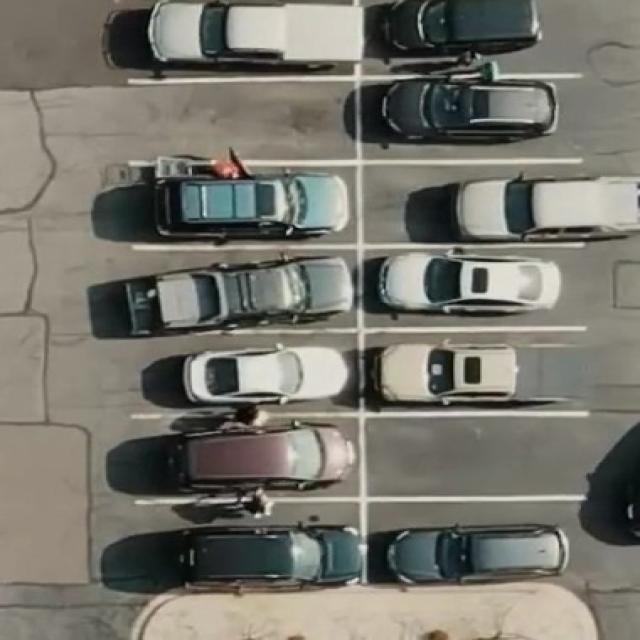space-empty: (119, 75, 356, 165), (357, 411, 595, 499)
space-occupied: (95, 498, 361, 594), (355, 158, 631, 245), (106, 243, 358, 337), (359, 330, 596, 419), (114, 415, 358, 500), (119, 335, 362, 418), (357, 74, 581, 162), (128, 159, 360, 243), (360, 498, 580, 586), (359, 244, 584, 327), (125, 0, 362, 77), (358, 0, 549, 67)
